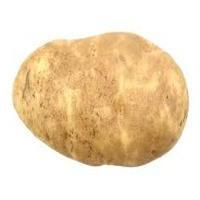biodegradable: (12, 30, 190, 167)
